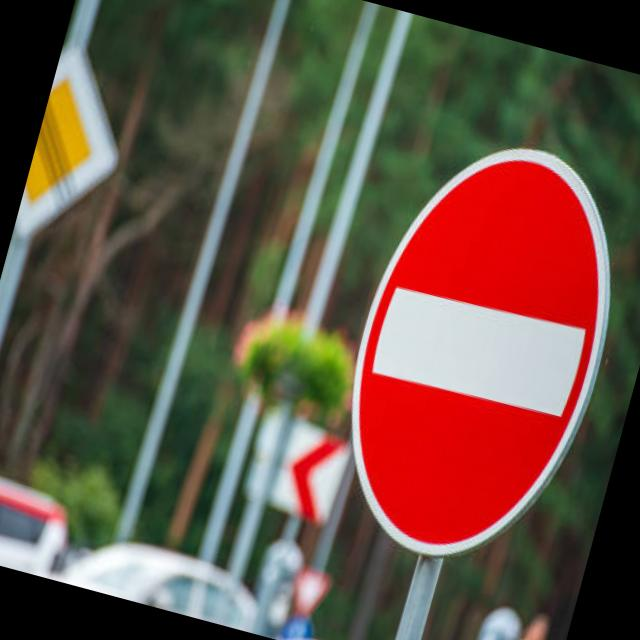do_not_enter: (302, 93, 640, 596)
